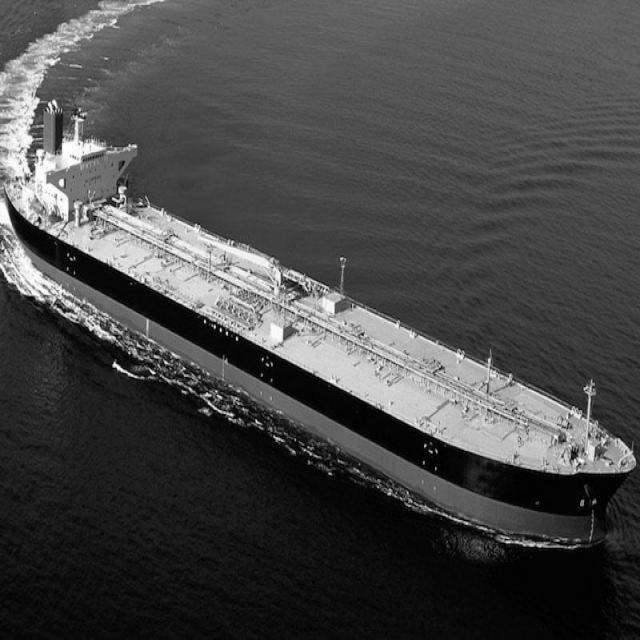Tanker: (5, 81, 638, 570)
